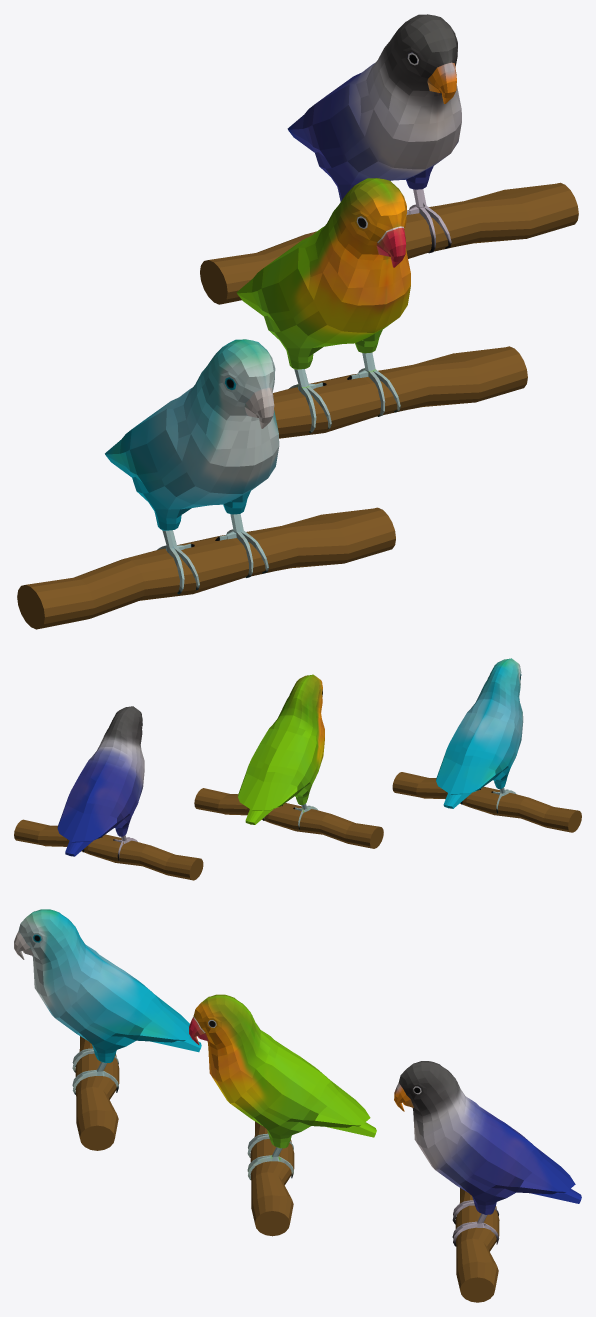
The picture shows the model from 3 angles, top to bottom: view 1: azimuth 30°, elevation 25°; view 2: azimuth 150°, elevation 25°; view 3: azimuth 270°, elevation 25°; orthographic projection. The views are drawn at different scales.
Visible parts, largest first — view 1: NIAO01_2, NIAO02_2, NIAO03_2, NIAO01, NIAO02, NIAO03; view 2: NIAO03_2, NIAO01_2, NIAO02_2, NIAO03, NIAO02, NIAO01; view 3: NIAO02_2, NIAO03_2, NIAO01_2, NIAO03, NIAO01, NIAO02.
Boxes of the visible parts, left/top/right/bottom form: NIAO01_2: left=105, top=339, right=279, bottom=594; NIAO02_2: left=236, top=178, right=410, bottom=433; NIAO03_2: left=287, top=14, right=461, bottom=253; NIAO01: left=17, top=507, right=395, bottom=629; NIAO02: left=273, top=346, right=527, bottom=438; NIAO03: left=200, top=182, right=578, bottom=304; NIAO03_2: left=57, top=706, right=144, bottom=861; NIAO01_2: left=436, top=658, right=523, bottom=813; NIAO02_2: left=238, top=674, right=324, bottom=829; NIAO03: left=14, top=819, right=203, bottom=880; NIAO02: left=194, top=788, right=383, bottom=848; NIAO01: left=392, top=772, right=581, bottom=832; NIAO02_2: left=189, top=994, right=376, bottom=1179; NIAO03_2: left=394, top=1061, right=581, bottom=1246; NIAO01_2: left=14, top=909, right=201, bottom=1094; NIAO03: left=455, top=1188, right=499, bottom=1302; NIAO01: left=75, top=1036, right=119, bottom=1150; NIAO02: left=250, top=1121, right=294, bottom=1236.
Bounding box in the file's own units: 288 × 93.05 × 260.
